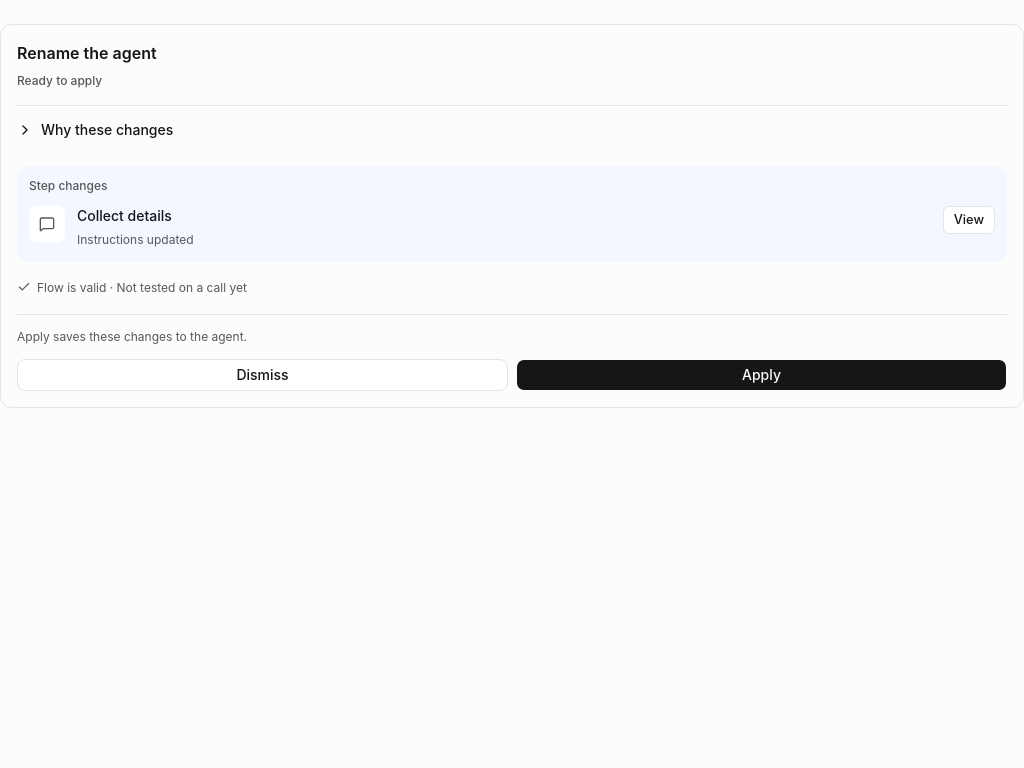
Scenario: instruction review displays real line breaks without serialized message brackets or escapes
What coordinates should you click on to do the following:
click the button with aria-label "View changes to Collect details"
I would click on:
 (969, 220)
Its box is x1=943 y1=206 x2=995 y2=234.
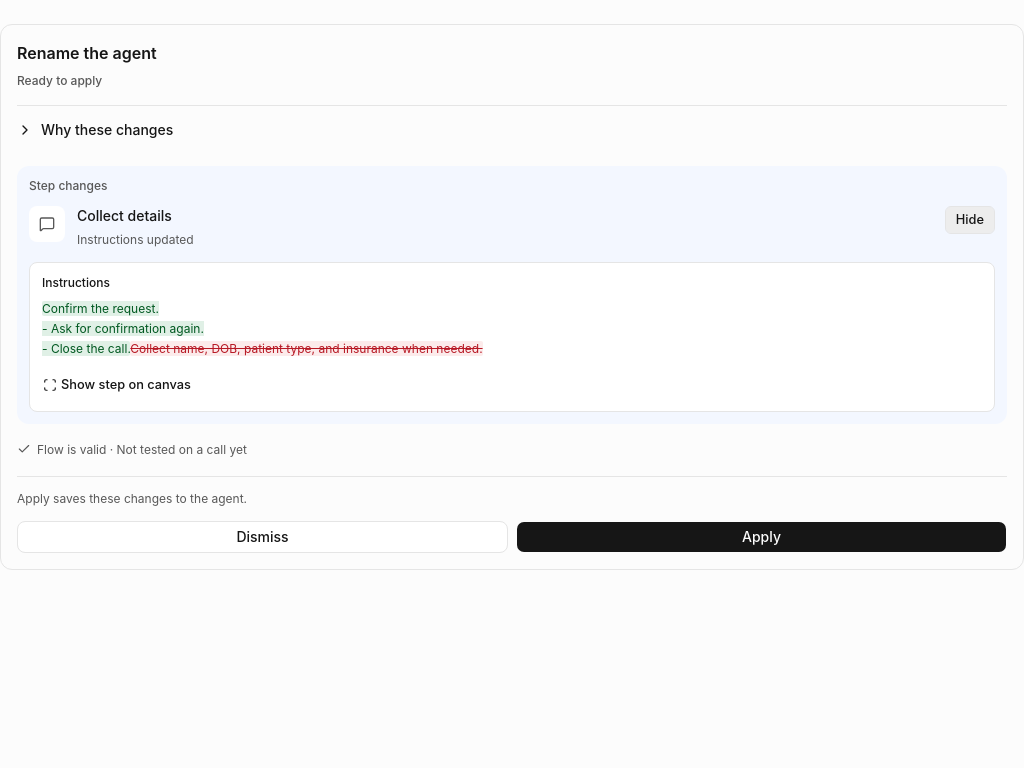
Check: the number of buttons "Show step on canvas" is 1, box x1=42 y1=371 x2=192 y2=399
